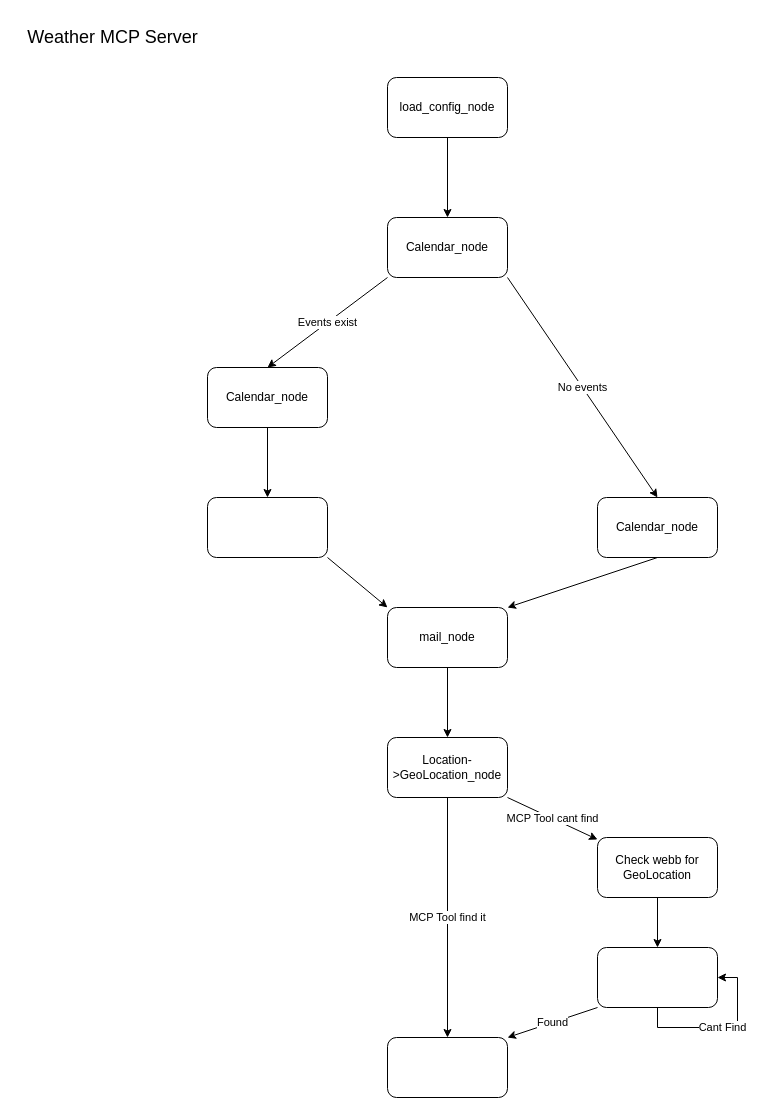
This 763x1115 diagram has some shape labels left out. The shapes that lost their labels are listed below. From the top down, each one's box as (x1, y1, x2, y2) in pixels, then its label:
(206, 496, 328, 558): Transportation_node
(596, 946, 718, 1008): Use webb MCP Tool to find
(386, 1036, 508, 1098): Weather Node
